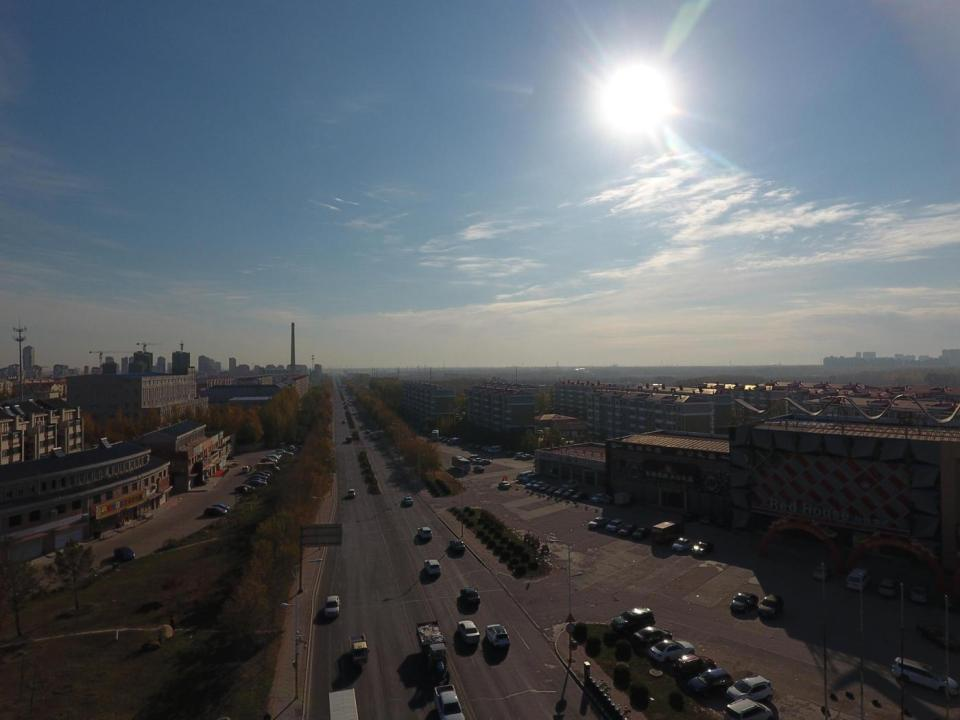bus: (651, 519, 684, 542), (450, 456, 470, 472), (257, 462, 280, 473), (431, 430, 438, 441)
car: (728, 674, 772, 706), (687, 668, 734, 697), (724, 698, 773, 720), (649, 639, 695, 662), (673, 654, 715, 678), (611, 608, 656, 630), (632, 626, 673, 647), (730, 591, 758, 613), (759, 594, 784, 618), (485, 624, 510, 647), (458, 620, 480, 644), (324, 595, 340, 619), (459, 587, 480, 605), (691, 540, 714, 556), (113, 546, 135, 561), (672, 538, 694, 552), (632, 526, 654, 540), (618, 524, 640, 538), (714, 514, 734, 528), (424, 559, 441, 575), (588, 516, 610, 528), (606, 519, 625, 532), (560, 479, 579, 490), (204, 507, 227, 516), (418, 526, 432, 540), (449, 539, 465, 551), (682, 511, 700, 521), (243, 480, 267, 487), (700, 514, 718, 523), (590, 493, 606, 503), (572, 491, 588, 500), (210, 504, 230, 511), (235, 485, 255, 492), (260, 457, 277, 465), (561, 488, 576, 497), (244, 477, 266, 483), (553, 488, 566, 497), (525, 480, 539, 488), (246, 475, 268, 480), (532, 481, 547, 488), (541, 483, 554, 491), (252, 472, 269, 478), (477, 459, 491, 466), (278, 452, 294, 458), (604, 497, 616, 505), (257, 470, 272, 476), (276, 448, 287, 456), (403, 496, 414, 504), (448, 438, 462, 444), (548, 485, 558, 493), (267, 455, 280, 461), (521, 454, 534, 460), (473, 465, 484, 472), (498, 481, 509, 488), (480, 446, 492, 452), (441, 437, 452, 443), (506, 450, 516, 456), (516, 452, 526, 458), (269, 452, 280, 457), (269, 453, 279, 458), (243, 466, 249, 474), (438, 437, 447, 442), (474, 458, 483, 463), (475, 444, 484, 448), (469, 444, 477, 448), (289, 445, 294, 451), (298, 446, 303, 450), (365, 430, 370, 434), (372, 436, 378, 439), (428, 434, 433, 437), (342, 420, 346, 423), (349, 403, 352, 406), (334, 390, 336, 392), (336, 389, 338, 390), (347, 400, 349, 401), (348, 398, 350, 399)
truck: (434, 685, 466, 720), (328, 688, 359, 720), (613, 493, 632, 505), (345, 436, 352, 444), (279, 442, 285, 448)
van: (892, 657, 959, 699), (878, 573, 902, 598), (909, 578, 931, 604), (847, 568, 870, 589), (812, 561, 833, 580), (943, 588, 960, 610), (515, 470, 534, 481), (522, 474, 540, 481), (488, 445, 501, 453), (466, 454, 478, 461), (348, 488, 356, 498)
